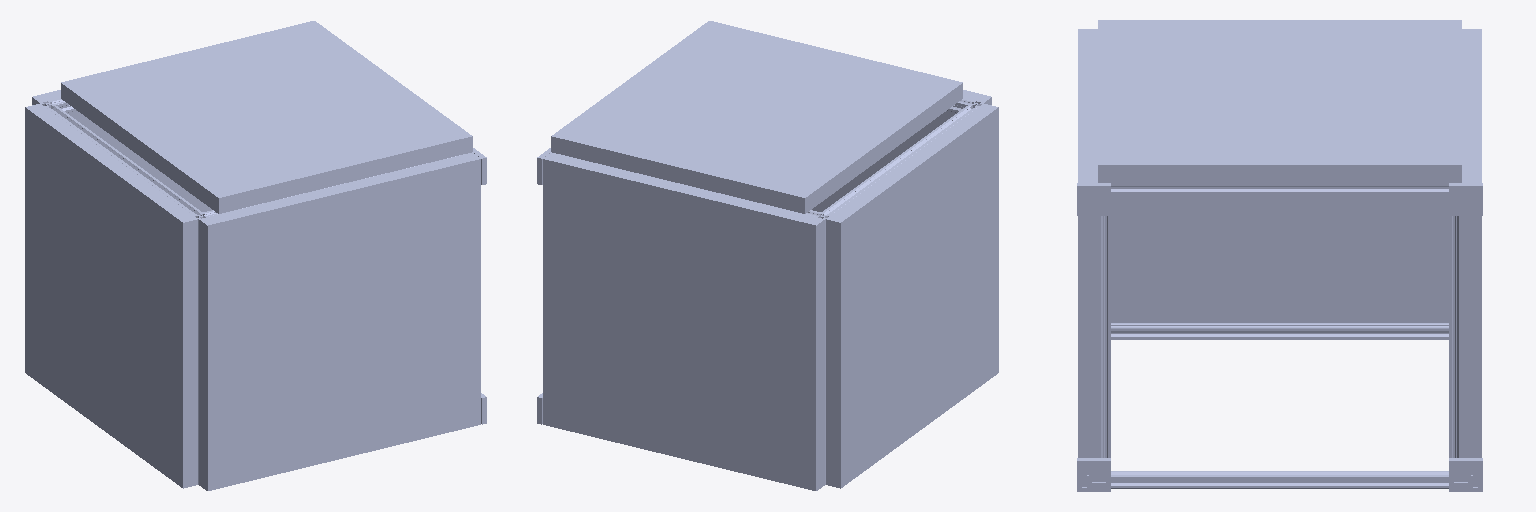
robot.urdf — docking_station_3:
<?xml version="1.0" encoding="utf-8"?>
<!-- This URDF was automatically created by SolidWorks to URDF Exporter! Originally created by [author] ([email redacted]) 
     Commit Version: 1.5.1-0-g916b5db  Build Version: 1.5.7152.31018
     For more information, please see http://wiki.ros.org/sw_urdf_exporter -->
<robot
  name="docking_station_3">
  <link
    name="base_link">
    <inertial>
      <origin
        xyz="-0.0654590951466708 -2.14828155264968E-14 0.316095145362664"
        rpy="0 0 0" />
      <mass
        value="42.1405004061533" />
      <inertia
        ixx="1.1682464130181"
        ixy="1.60890850451873E-14"
        ixz="-9.97053038821253E-15"
        iyy="1.38640694776041"
        iyz="-1.95937235806278E-15"
        izz="1.23920905004594" />
    </inertial>
    <visual>
      <origin
        xyz="0 0 0"
        rpy="0 0 0" />
      <geometry>
        <mesh
          filename="package://docking_station_3/meshes/base_link.STL" />
      </geometry>
      <material
        name="">
        <color
          rgba="0.792156862745098 0.819607843137255 0.933333333333333 1" />
      </material>
    </visual>
    <collision>
      <origin
        xyz="0 0 0"
        rpy="0 0 0" />
      <geometry>
        <mesh
          filename="package://docking_station_3/meshes/base_link.STL" />
      </geometry>
    </collision>
  </link>
</robot>

--- Facts derived from the render (not from the file) ---
Views: 3 orthographic renders of the robot side by side, from view 1: azimuth 30°, elevation 25°; view 2: azimuth 150°, elevation 25°; view 3: azimuth 270°, elevation 25°.
Model docking_station_3 with 1 links and 0 joints (none), rooted at base_link, posed all joints at 0.
Visible links, largest first — view 1: base_link; view 2: base_link; view 3: base_link.
Link boxes in pixels (bbox=[...]): base_link: bbox=[25, 21, 486, 490]; base_link: bbox=[537, 21, 998, 490]; base_link: bbox=[1077, 20, 1482, 491].
Bounding box of the posed robot: 0.58 × 0.601 × 0.53 m (x, y, z).
1 mesh visuals loaded from 1 distinct referenced files (1 binary STL).